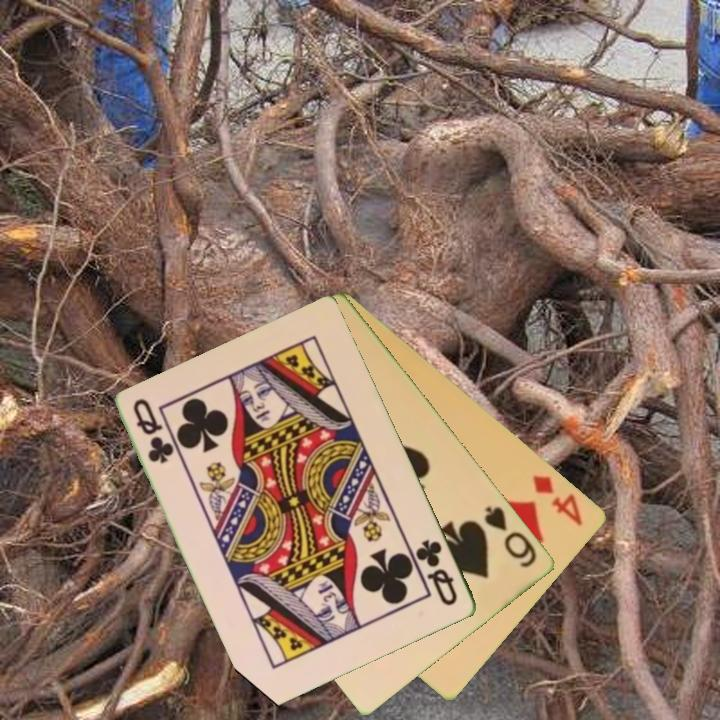4d: (529, 471, 586, 529)
6s: (481, 503, 541, 571)
Qc: (412, 536, 461, 609), (129, 395, 177, 467)
